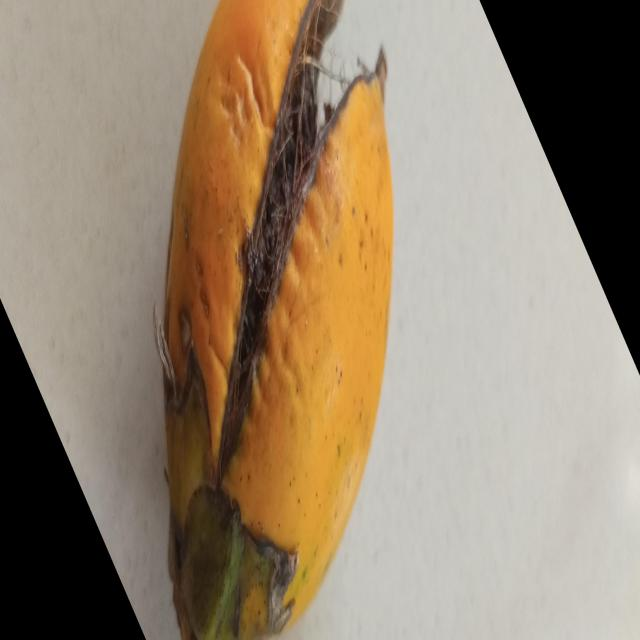damaged: (153, 0, 393, 640)
